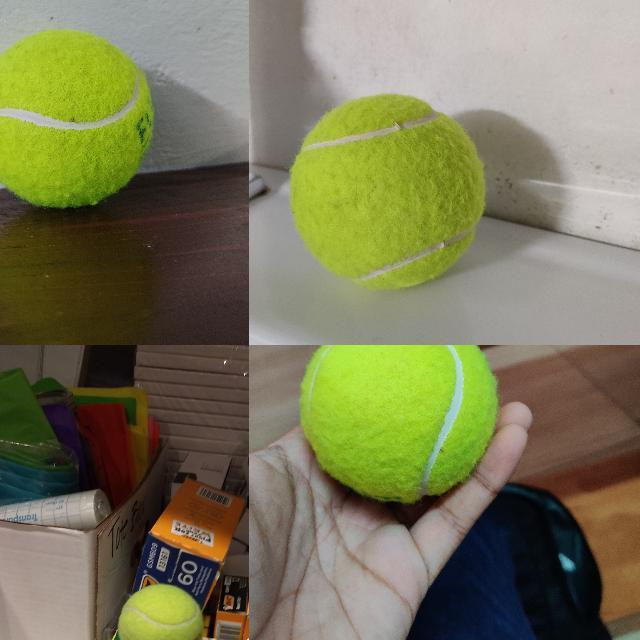tennis-ball: (286, 91, 488, 292), (300, 345, 498, 501), (0, 28, 154, 208), (117, 582, 205, 639)
